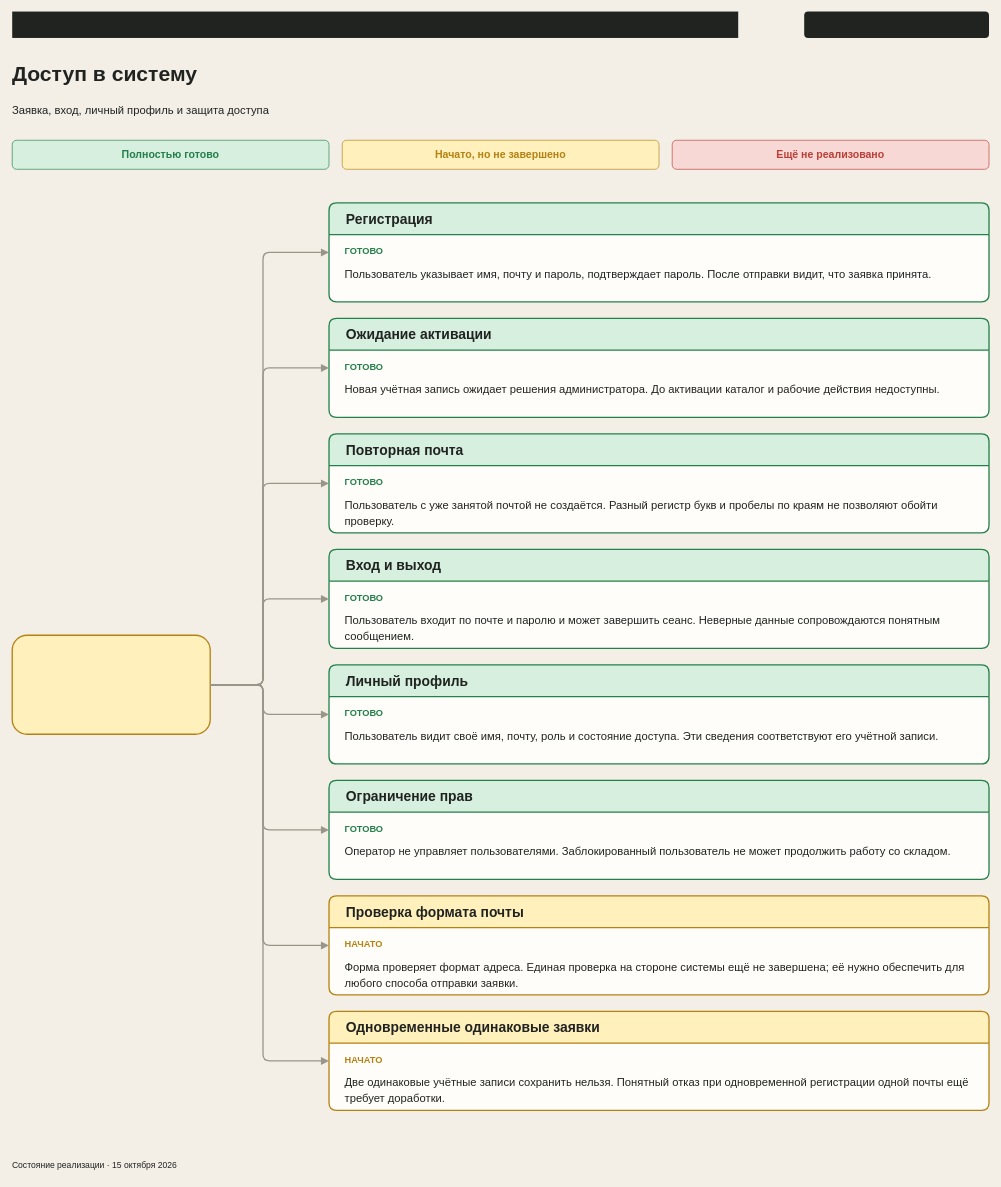
Some shapes in this 1001 by 1187 pixel diagram are drawn without their labels. Here are the shapes that lost their labels. From the top down, the centre of each, then its label:
At point 375,24: "СЕКЦИЯ / КАРТА ФУНКЦИЙ".
At point 896,24: "← Все разделы".
At point 111,684: "Доступ в систему НАЧАТО".
